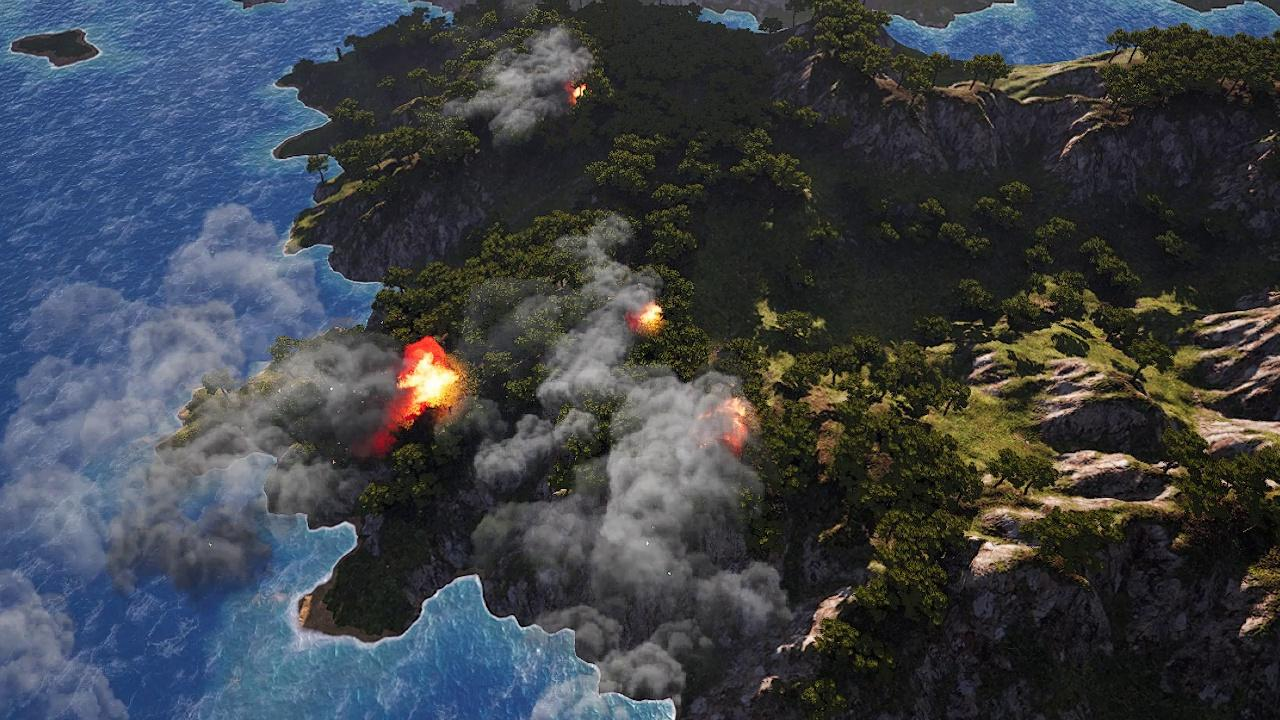fire: (395, 343, 462, 427), (695, 397, 752, 451), (628, 305, 664, 334), (567, 82, 588, 105)
smoke: (0, 193, 400, 720), (445, 213, 799, 720), (448, 25, 594, 152)
